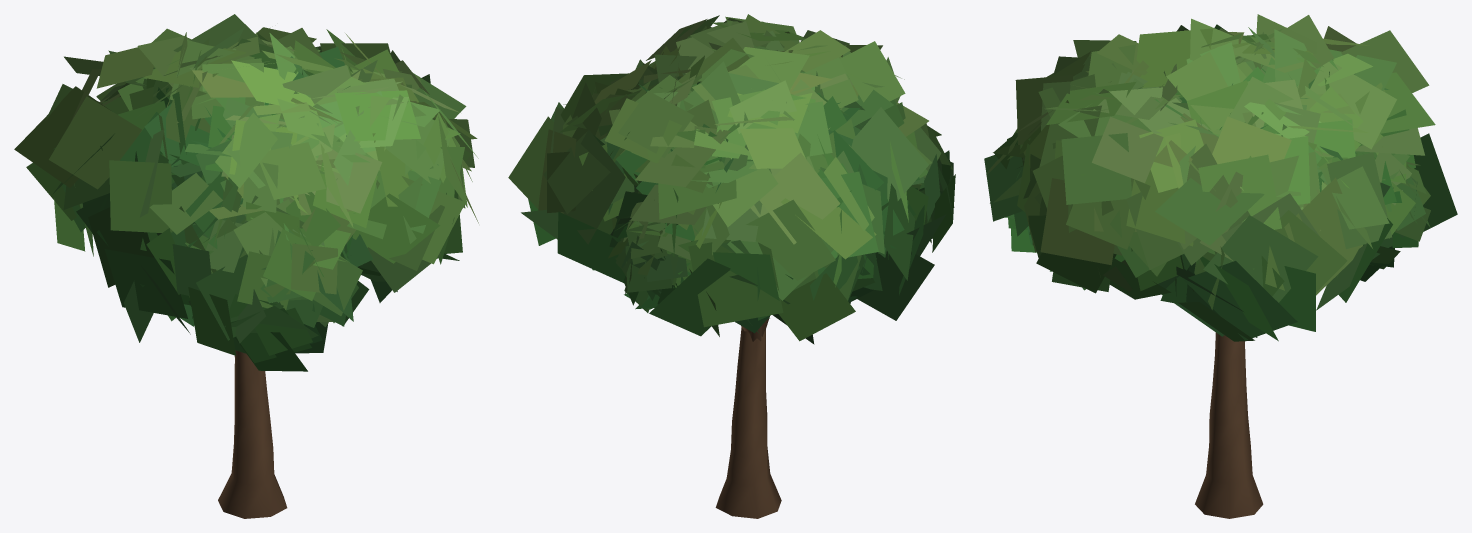
File: oak_c.glb
The picture shows the model from 3 angles, left to right: view 1: azimuth 30°, elevation 25°; view 2: azimuth 150°, elevation 25°; view 3: azimuth 270°, elevation 25°; orthographic projection. The views are drawn at different scales.
Visible parts, largest first — view 1: LeafCards, Trunk; view 2: LeafCards, Trunk; view 3: LeafCards, Trunk.
Boxes of the visible parts, x1,y1,x2,y2 form: LeafCards: (14, 14, 478, 371); Trunk: (218, 350, 287, 518); LeafCards: (508, 14, 955, 344); Trunk: (715, 317, 781, 518); LeafCards: (984, 14, 1457, 341); Trunk: (1195, 332, 1263, 518).
Bounding box in the file's own units: 8.11 × 9.57 × 8.61.
